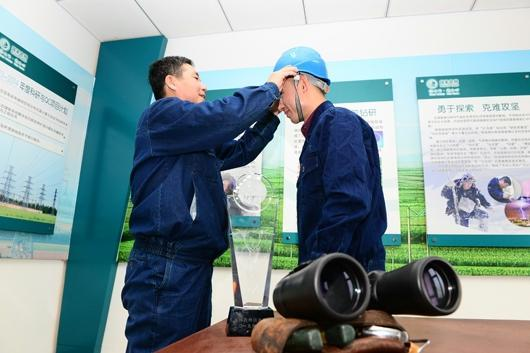helmet: (272, 48, 333, 88)
